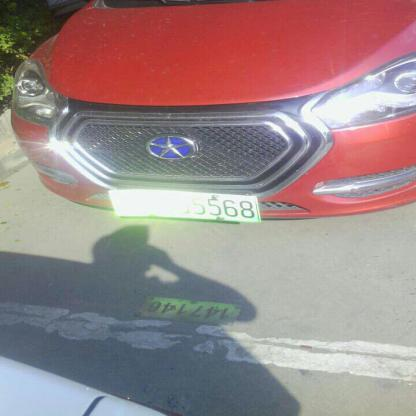lp: (107, 189, 260, 221)
